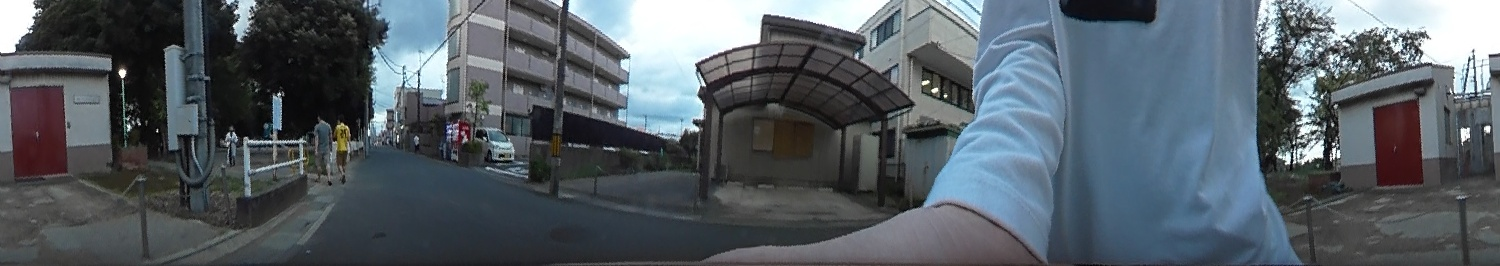difficult_person: (333, 112, 352, 178), (220, 125, 238, 167), (410, 130, 421, 154)
person: (311, 112, 332, 182)
